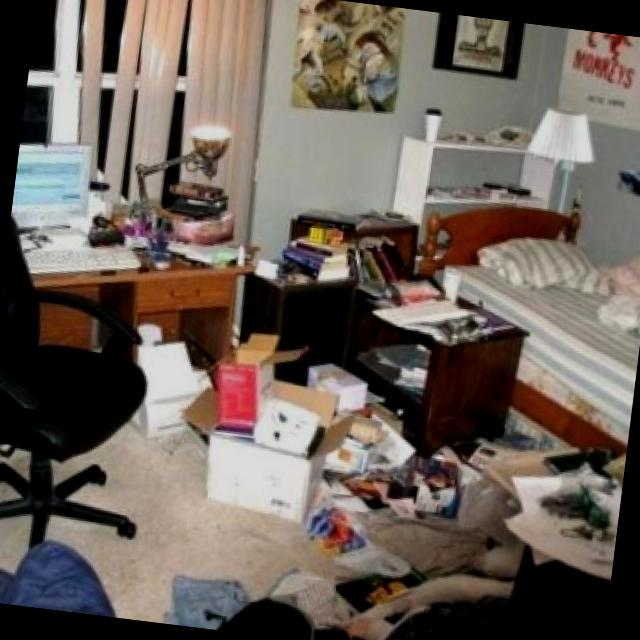mess: (0, 309, 634, 640), (3, 122, 558, 344)
